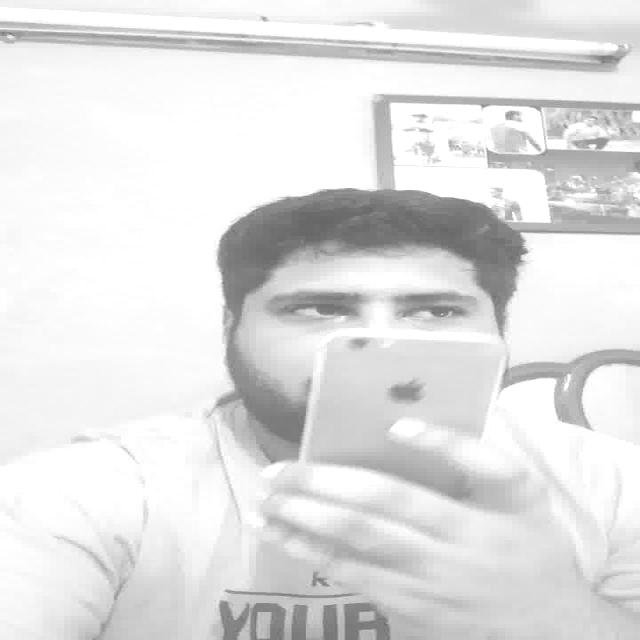fake: (307, 330, 505, 472)
real: (272, 288, 475, 326)
